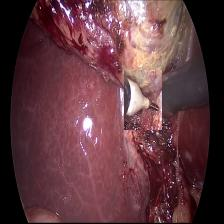Hook: (124, 70, 162, 130)
